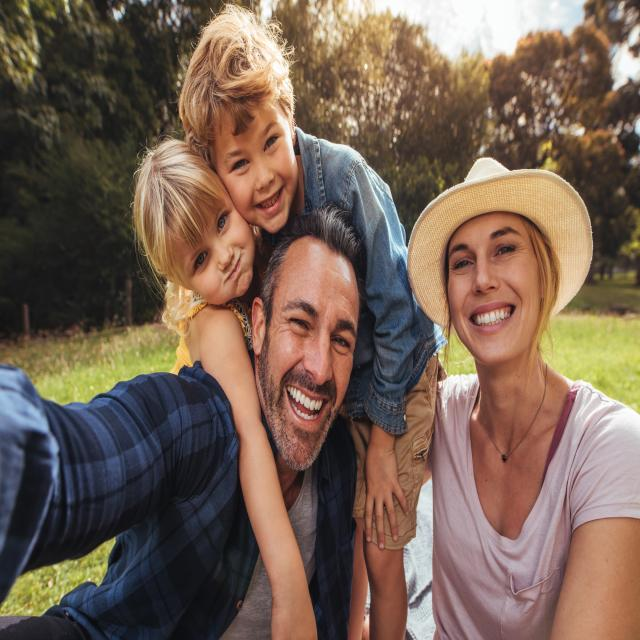adult: (0, 213, 365, 640), (414, 157, 640, 640)
child: (178, 3, 440, 640), (134, 126, 318, 640)
